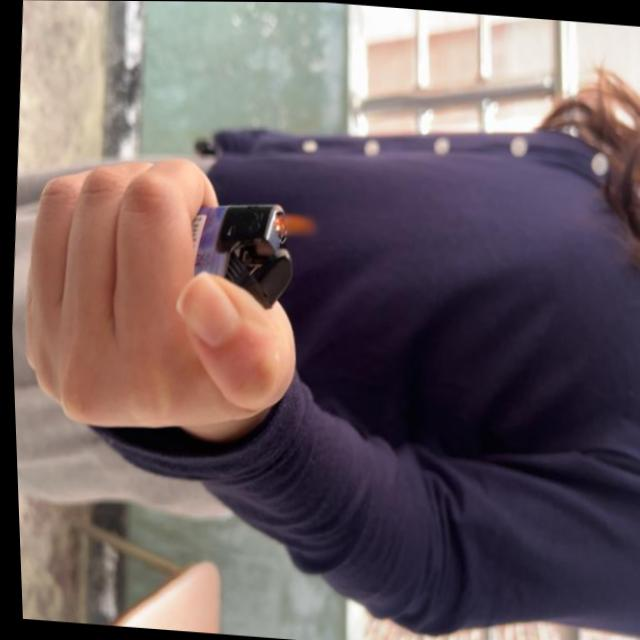Fire: (273, 212, 323, 242)
